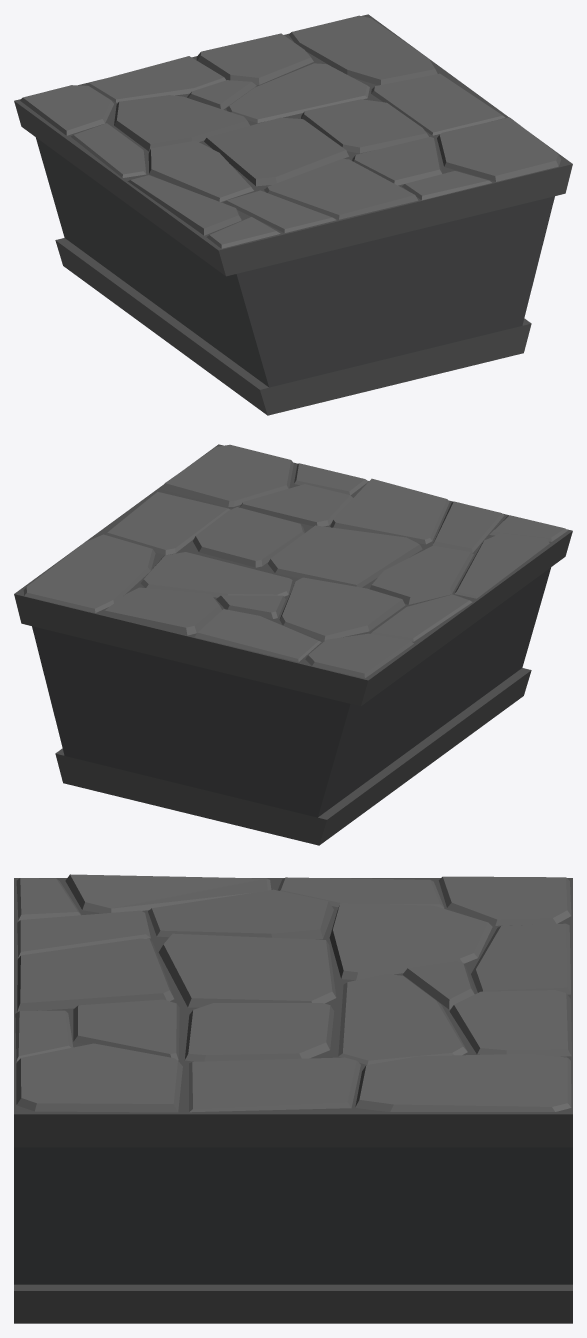
Rendered from platform_003.glb.
The picture shows the model from 3 angles, top to bottom: view 1: azimuth 30°, elevation 25°; view 2: azimuth 150°, elevation 25°; view 3: azimuth 270°, elevation 25°; orthographic projection. The views are drawn at different scales.
Parts seen in each view (by area): view 1: platform_003; view 2: platform_003; view 3: platform_003.
Part boxes in pixels (x1,y1,x2,y2): platform_003: (14,14,572,415); platform_003: (14,444,572,845); platform_003: (14,874,572,1323).
Bounding box in the file's own units: 5 × 2.48 × 5.
1 material, 1 textured.
